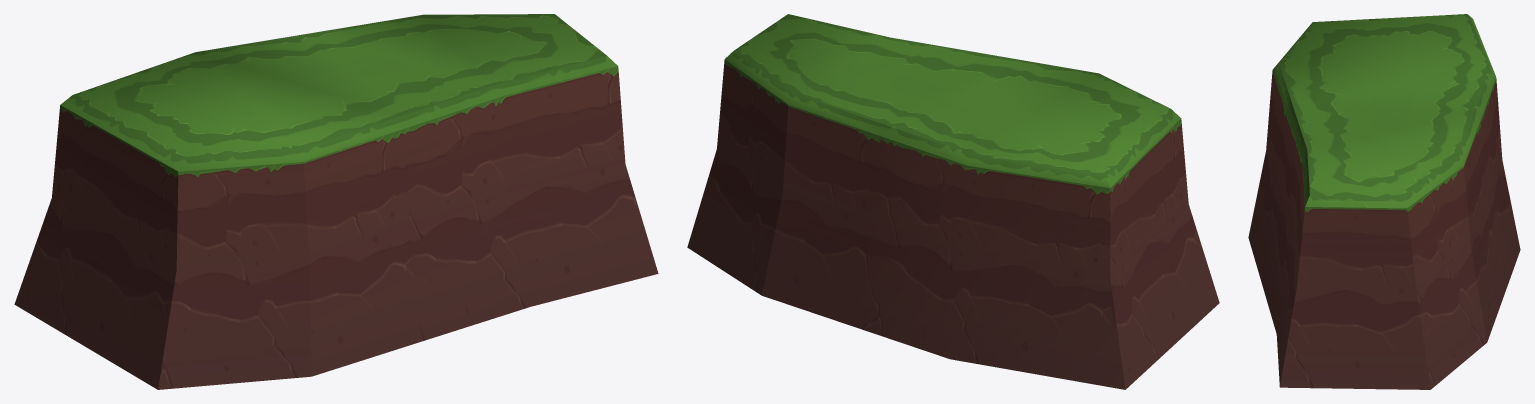
File: forest_cliff_big.fbx
3 views of the same model, side by side, from view 1: azimuth 30°, elevation 25°; view 2: azimuth 150°, elevation 25°; view 3: azimuth 270°, elevation 25° (orthographic). The views are drawn at different scales.
Visible parts, largest first — view 1: forest_cliff_big; view 2: forest_cliff_big; view 3: forest_cliff_big.
Boxes of the visible parts, box(x1,y1,x2,y2) form: forest_cliff_big: box(14, 14, 658, 389); forest_cliff_big: box(687, 14, 1219, 389); forest_cliff_big: box(1248, 14, 1520, 389).
Bounding box in the file's own units: 13.8 × 5.4 × 7.44.
